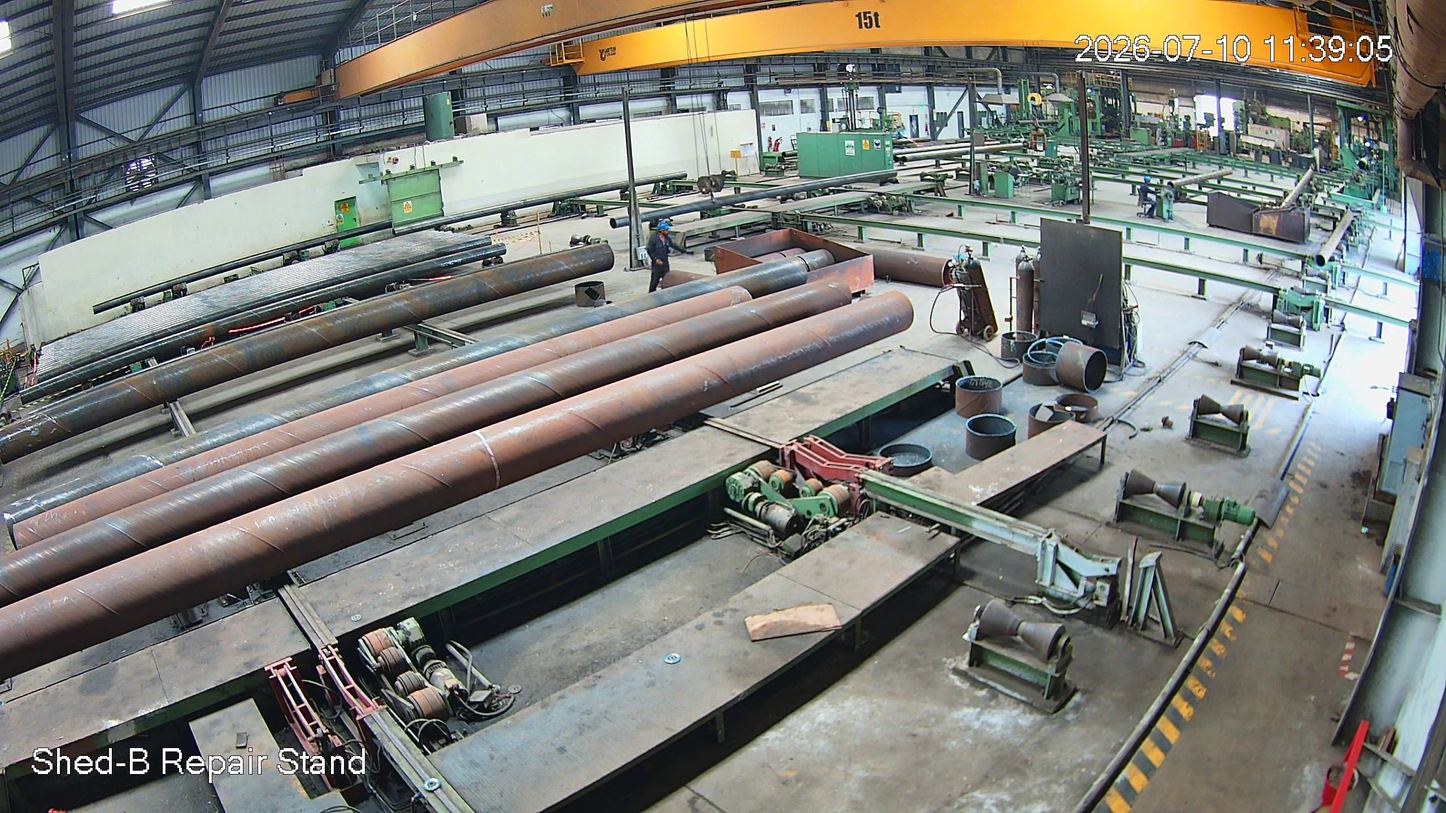Helmet: (647, 217, 679, 242), (1136, 166, 1158, 192)
Person: (641, 218, 688, 293), (1129, 170, 1165, 216)
